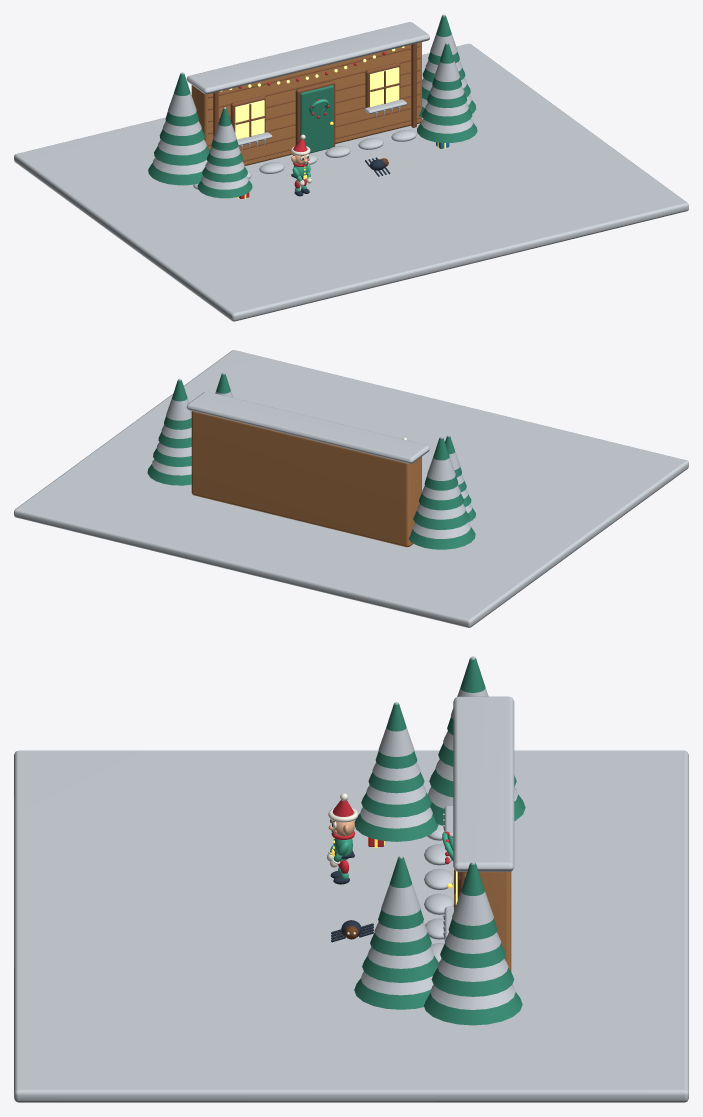
The model's file is chapter-07.glb.
The picture shows the model from 3 angles, top to bottom: view 1: azimuth 30°, elevation 25°; view 2: azimuth 150°, elevation 25°; view 3: azimuth 270°, elevation 25°; orthographic projection. The views are drawn at different scales.
Visible parts, largest first — view 1: Schneeboden, Werkstatt, Schneegesims, Wichteltür, Warmes Fenster, Warmes Fenster.001, Tannenzweig.004, Tannenzweig.008, Tannenzweig.009, Türrahmen, Tannenzweig.011, Schnee.011 (+7 smaller); view 2: Schneeboden, Werkstatt, Schneegesims, Tannenzweig.008, Tannenzweig.009, Tannenzweig.011, Schnee.008, Schnee.011, Tannenzweig.015, Tannenzweig.012, Tannenzweig.010, Schnee.009 (+1 smaller); view 3: Schneeboden, Schneegesims, Werkstatt, Tannenzweig.012, Tannenzweig.013, Tannenzweig.015, Tannenzweig, Schnee.012, Tannenzweig.005, Tannenzweig.004, Schnee.015, Tannenzweig.007 (+15 smaller).
Boxes of the visible parts, bbox=[...] form: Schneeboden: bbox=[14, 43, 688, 321]; Werkstatt: bbox=[191, 42, 421, 165]; Schneegesims: bbox=[186, 22, 429, 94]; Wichteltür: bbox=[300, 85, 333, 153]; Warmes Fenster: bbox=[235, 100, 264, 139]; Warmes Fenster.001: bbox=[370, 67, 399, 106]; Tannenzweig.004: bbox=[417, 122, 477, 142]; Tannenzweig.008: bbox=[148, 163, 202, 185]; Tannenzweig.009: bbox=[154, 146, 209, 165]; Türrahmen: bbox=[295, 81, 335, 146]; Tannenzweig.011: bbox=[165, 73, 198, 126]; Schnee.011: bbox=[168, 72, 196, 116]; Schneeboden: bbox=[14, 350, 688, 627]; Werkstatt: bbox=[191, 411, 421, 547]; Schneegesims: bbox=[186, 391, 429, 463]; Tannenzweig.008: bbox=[408, 527, 475, 549]; Tannenzweig.009: bbox=[413, 510, 469, 529]; Tannenzweig.011: bbox=[424, 437, 458, 490]; Schnee.008: bbox=[412, 522, 470, 538]; Schnee.011: bbox=[427, 436, 455, 480]; Tannenzweig.015: bbox=[164, 380, 191, 429]; Tannenzweig.012: bbox=[147, 464, 191, 485]; Tannenzweig.010: bbox=[419, 493, 463, 510]; Schnee.009: bbox=[417, 504, 465, 519]; Schneeboden: bbox=[14, 750, 688, 1102]; Schneegesims: bbox=[453, 696, 514, 871]; Werkstatt: bbox=[466, 871, 511, 971]; Tannenzweig.012: bbox=[424, 992, 522, 1025]; Tannenzweig.013: bbox=[431, 968, 514, 996]; Tannenzweig.015: bbox=[448, 863, 497, 939]; Tannenzweig: bbox=[354, 813, 438, 841]; Schnee.012: bbox=[430, 985, 515, 1009]; Tannenzweig.005: bbox=[362, 955, 438, 982]; Tannenzweig.004: bbox=[354, 978, 430, 1009]; Schnee.015: bbox=[452, 861, 493, 925]; Tannenzweig.007: bbox=[378, 857, 423, 929].
Bounding box in the file's own units: 18 × 4.39 × 15.
